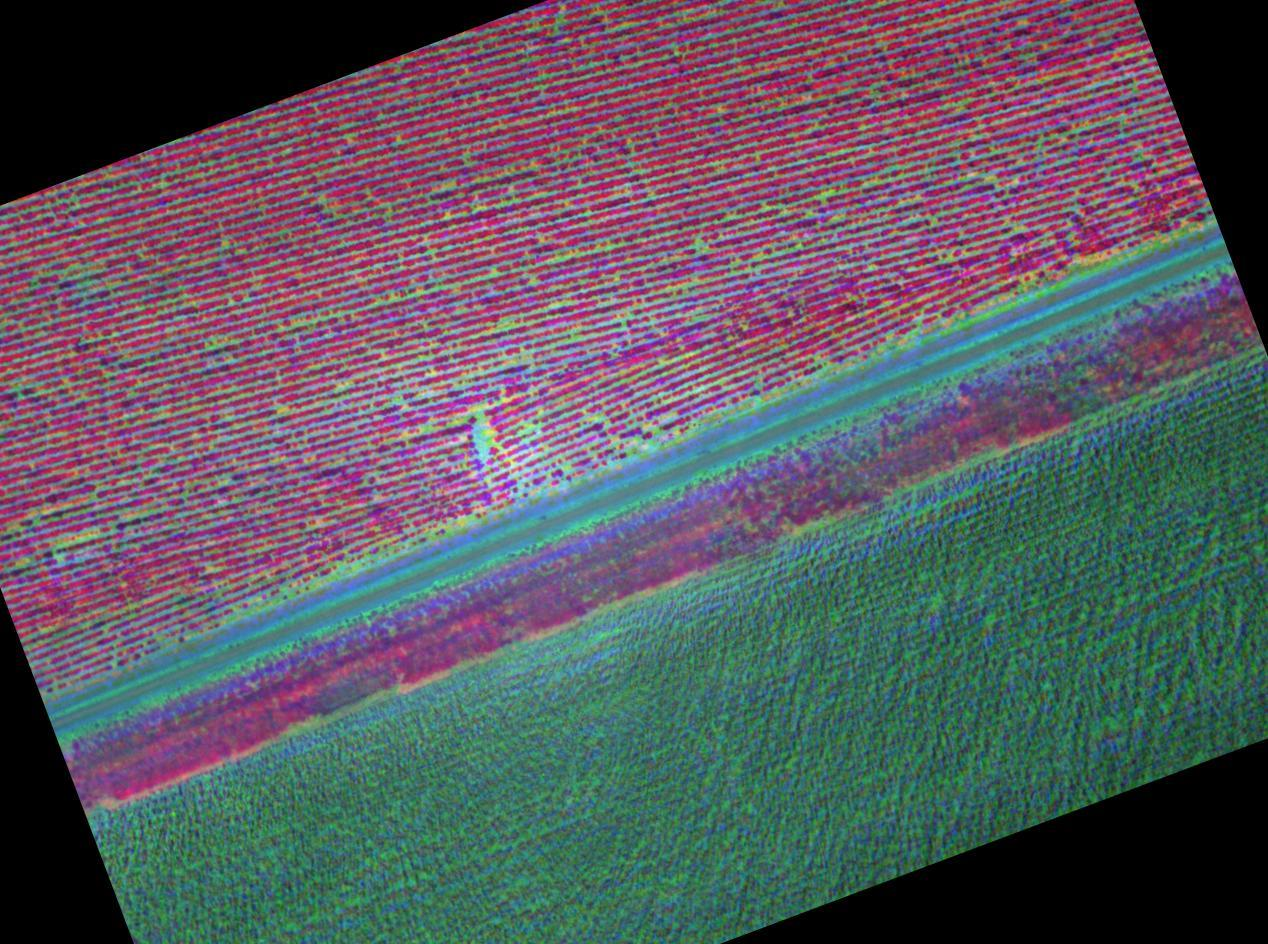dc: (821, 195, 825, 200), (696, 242, 700, 247), (661, 362, 665, 367), (378, 301, 382, 305), (986, 173, 989, 177), (214, 345, 217, 349), (494, 273, 497, 276)
